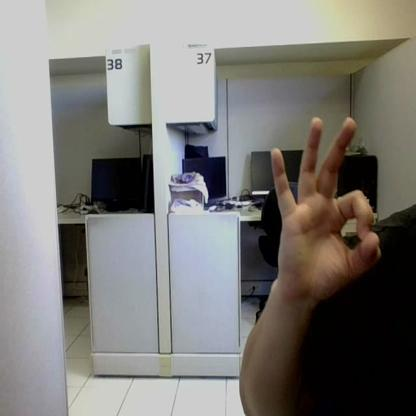F: (272, 117, 381, 294)
